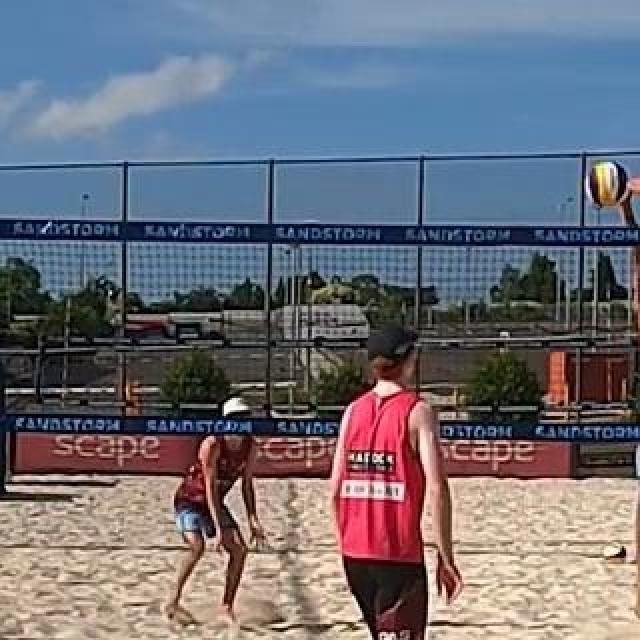volleyball: (586, 161, 628, 209), (605, 541, 627, 565)
